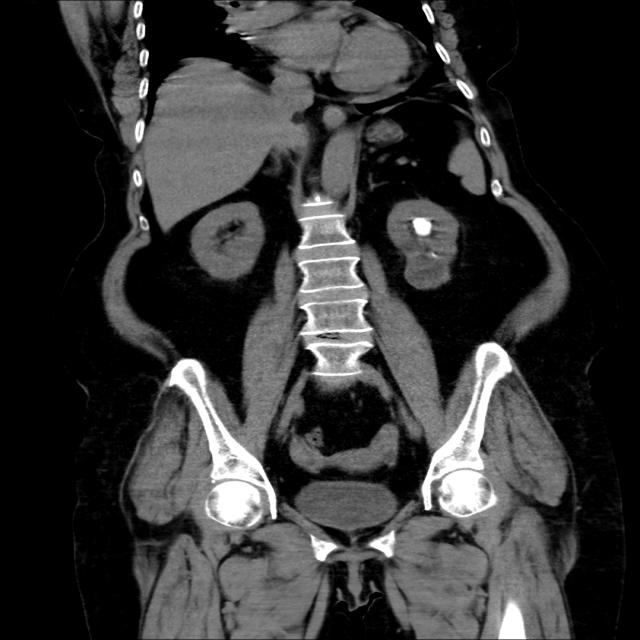kidneystone: (412, 218, 433, 236)
